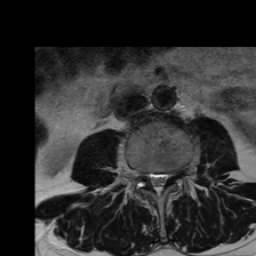CCS_normal: (153, 166, 161, 200)
LFS_stenosis: (169, 164, 177, 185)
LLS_stenosis: (161, 168, 169, 187)
RFS_severe_stenosis: (138, 163, 148, 185)
RLS_normal: (146, 168, 153, 187)
